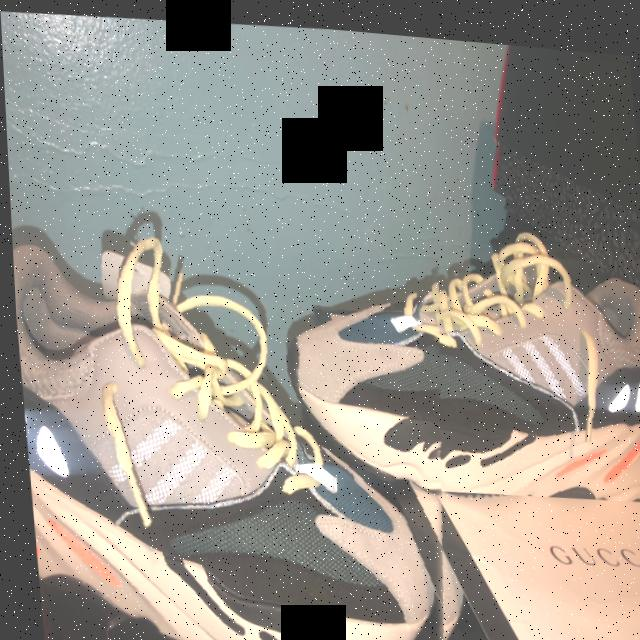shoe: (7, 169, 471, 640), (274, 165, 640, 503)
